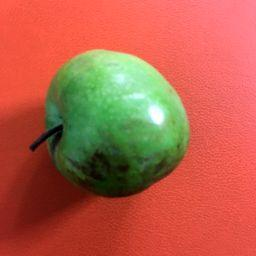apple: (22, 37, 206, 206)
